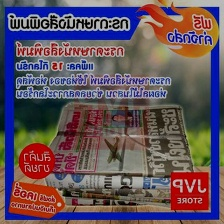news_paper: (41, 101, 199, 206)
